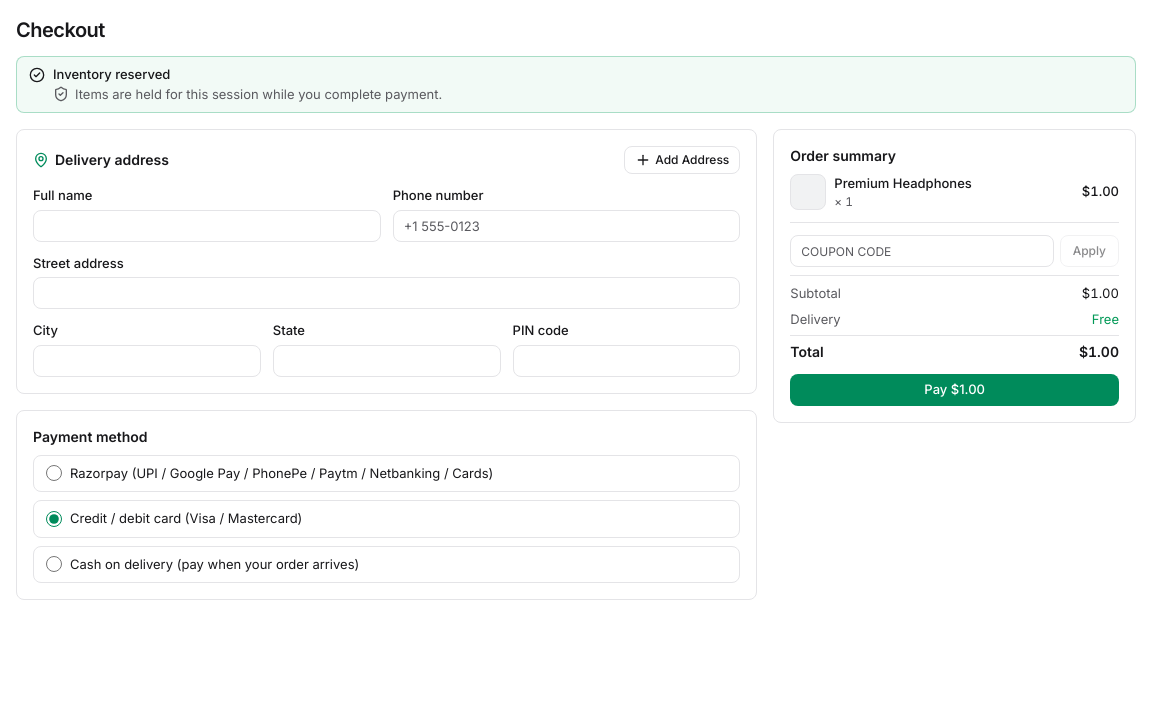
Test: CheckoutPage Browser Payment & 3DS SCA State Handling › allows user to cancel 3D Secure modal and enter retry state
Expected: the text "Premium Headphones" is shown, [834,175,972,191]
Type "Jane Doe" into the field labelled "Full name" at (207,226), box [33,210,381,242]
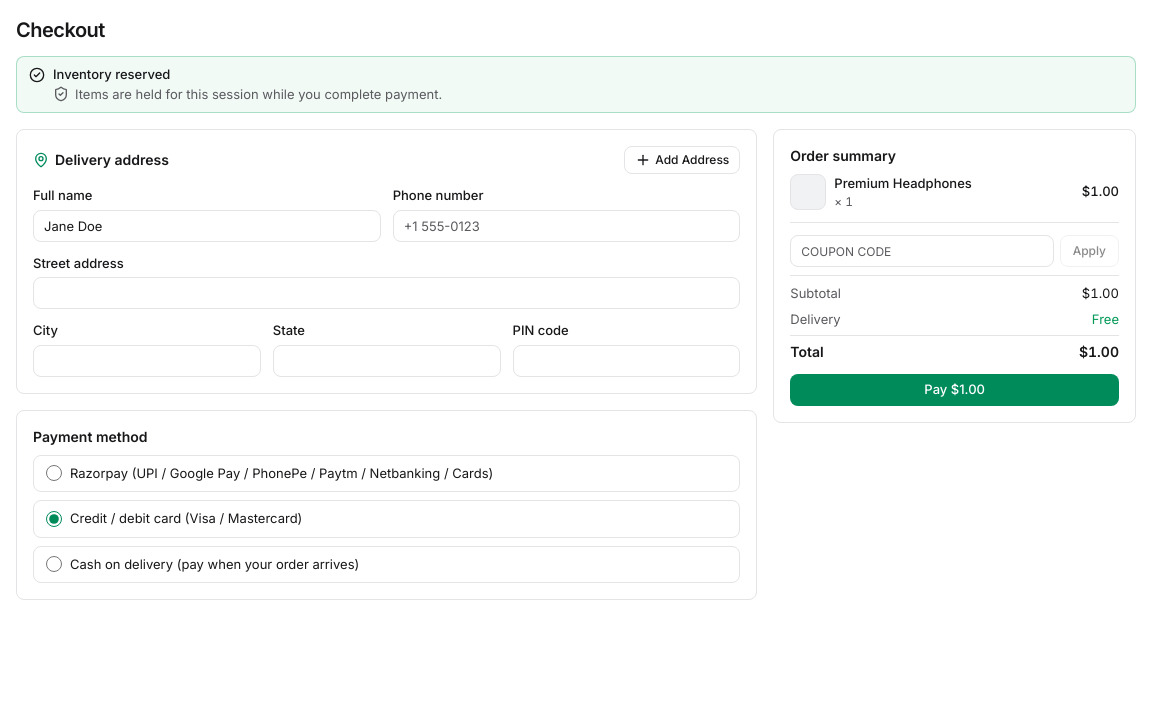
Type "123 Market St" into the field labelled "Street address" at (387,293), box [33,277,740,309]
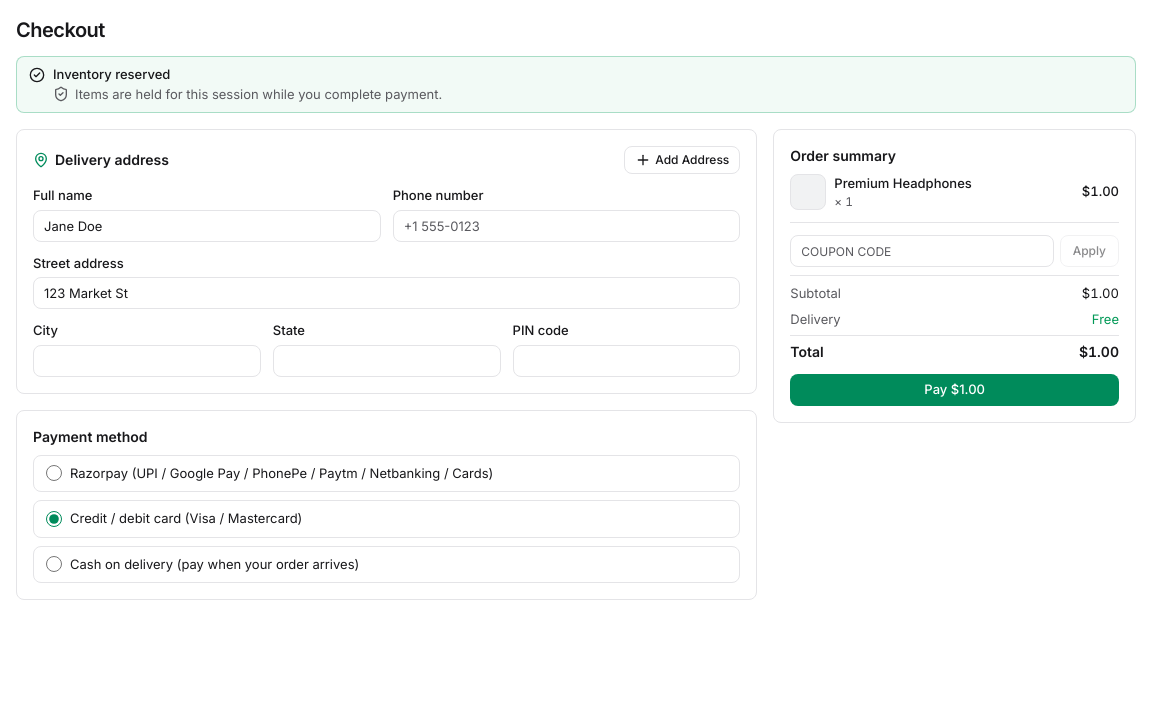
Type "San Francisco" into the field labelled "City" at (147,360), box [33,344,261,376]
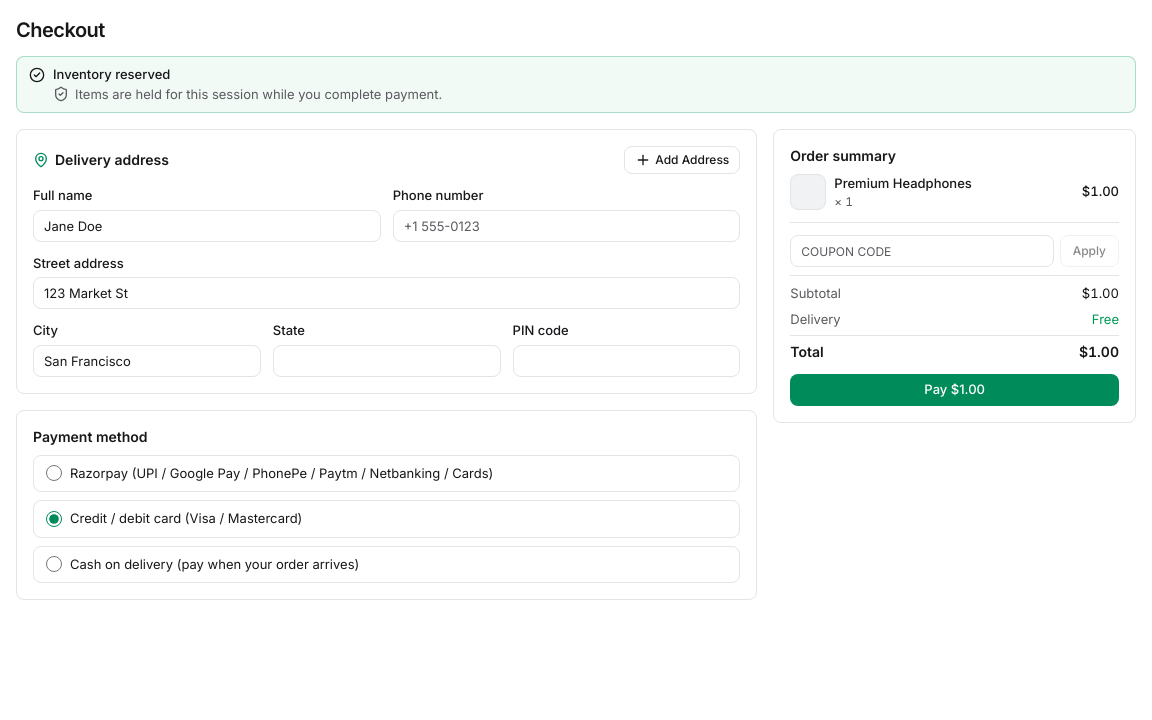
Type "94105" into the field labelled "PIN code" at (626,360), box [512,344,740,376]
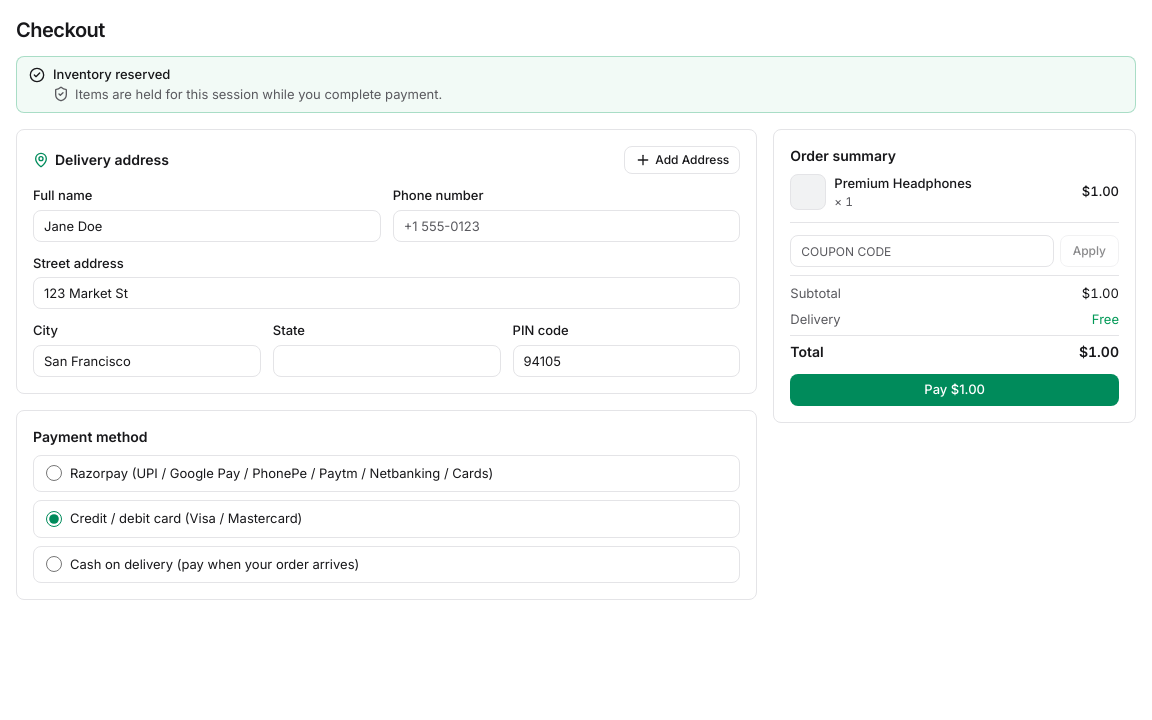
Submit the form named "Pay"
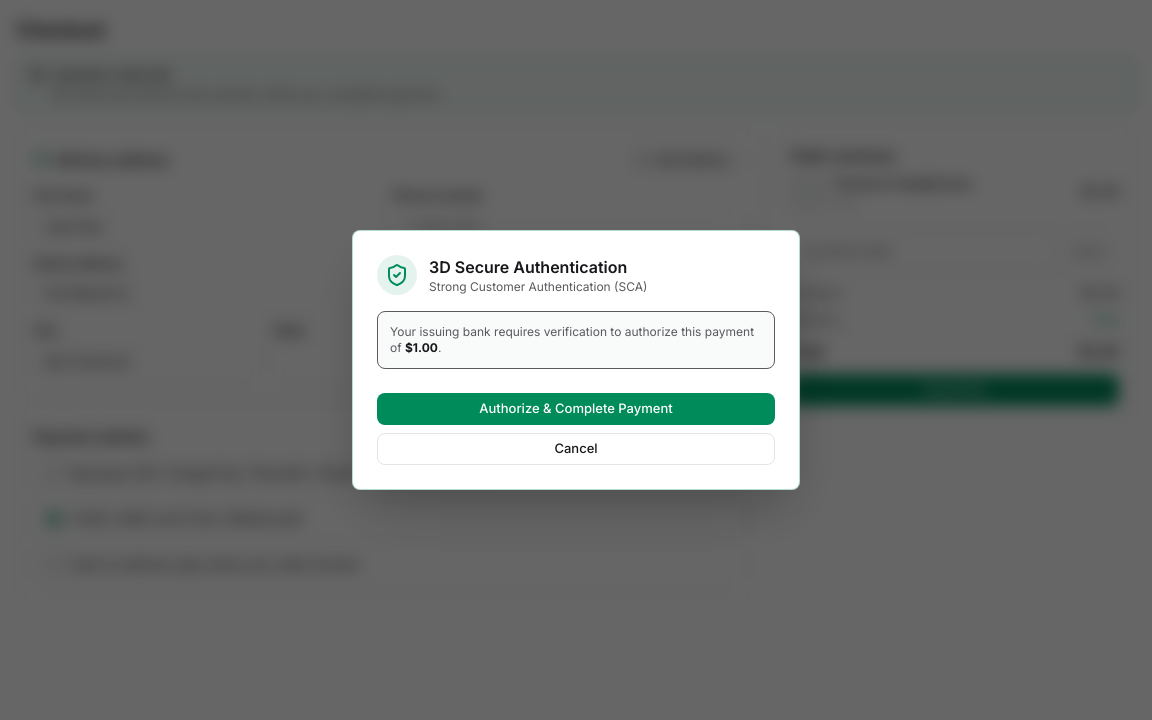
Now the heading "3D Secure Authentication" is shown, box [429,255,647,279]
Note: Click Cancel in modal
Click the button "Cancel" at (576,449), box [377,433,775,465]
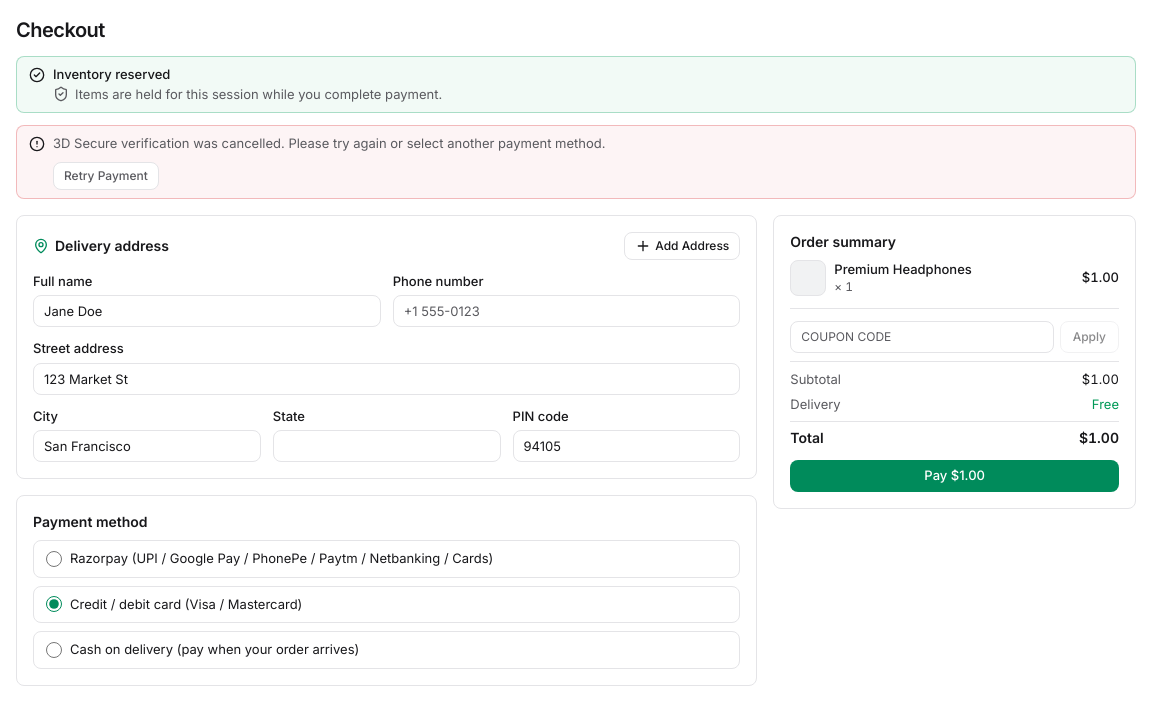
Now the text "3D Secure verification was cancelled" is shown, box [53,135,606,151]
Now the button "Retry Payment" is shown, box [53,162,159,190]
